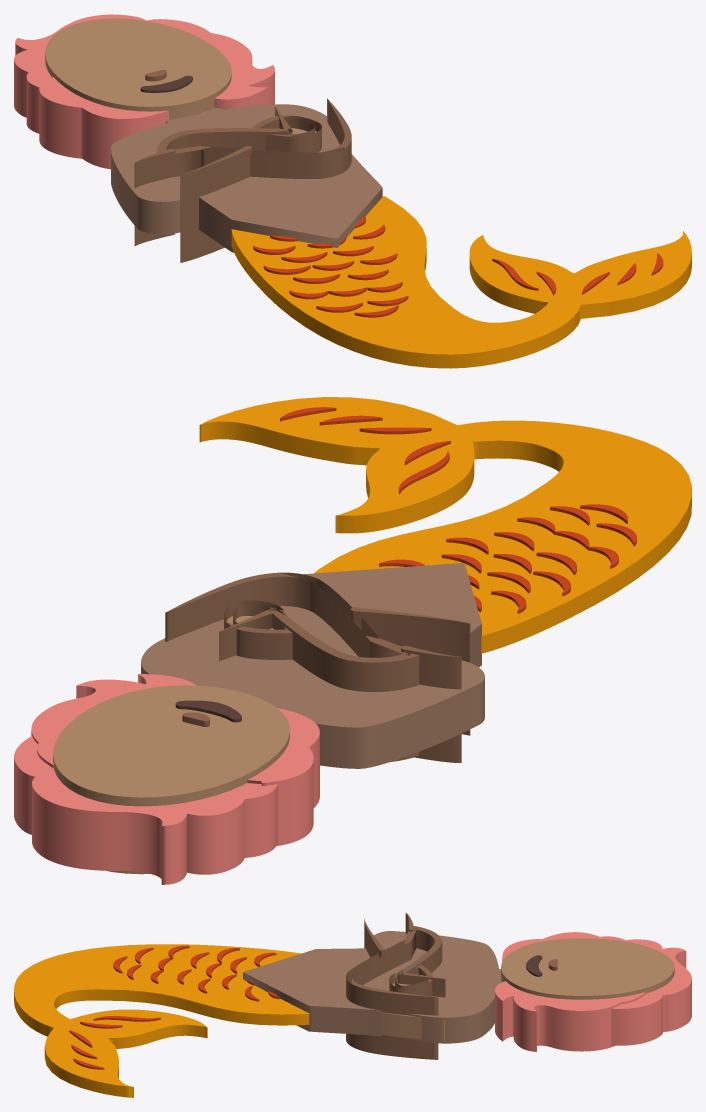
The model's file is emoji_u1f9dc_1f3fd.glb.
3 views of the same model, one above another, from view 1: azimuth 30°, elevation 25°; view 2: azimuth 150°, elevation 25°; view 3: azimuth 270°, elevation 25° (orthographic). The views are drawn at different scales.
Parts seen in each view (by area): view 1: emoji_u1f9dc_1f3fd; view 2: emoji_u1f9dc_1f3fd; view 3: emoji_u1f9dc_1f3fd.
Boxes of the visible parts, x1=… form: emoji_u1f9dc_1f3fd: x1=14, y1=14, x2=691, y2=368; emoji_u1f9dc_1f3fd: x1=14, y1=397, x2=691, y2=884; emoji_u1f9dc_1f3fd: x1=14, y1=913, x2=691, y2=1097.
Bounding box in the file's own units: 0.0173 × 0.0038 × 0.0333.
